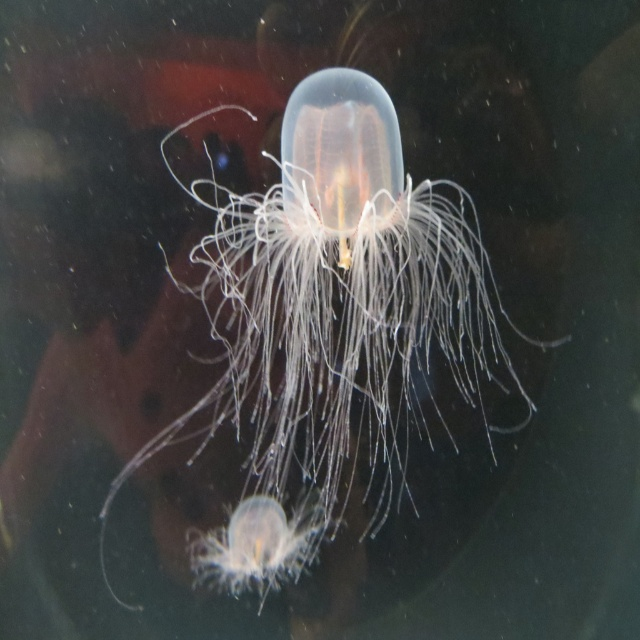Jellyfish: (98, 67, 574, 618)
